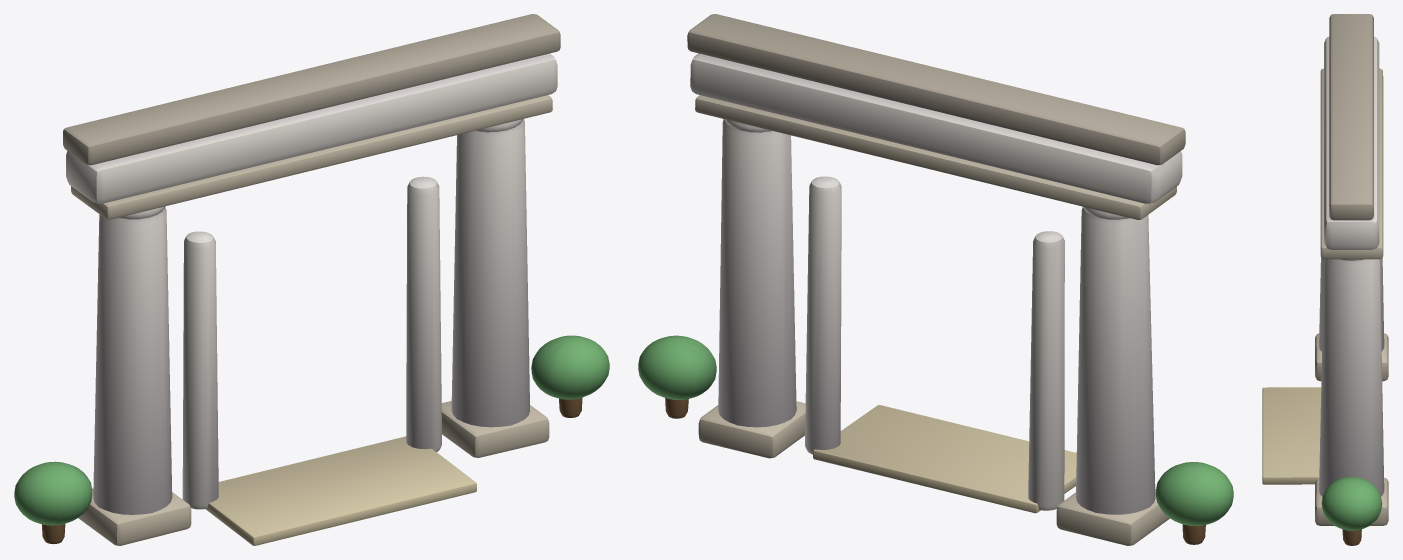
3 renders of one model, left to right at view 1: azimuth 30°, elevation 25°; view 2: azimuth 150°, elevation 25°; view 3: azimuth 270°, elevation 25°, orthographic. The views are drawn at different scales.
Visible parts, largest first — view 1: gate_333271d1; view 2: gate_333271d1; view 3: gate_333271d1.
Boxes of the visible parts, x1,y1,x2,y2 form: gate_333271d1: [14, 14, 609, 545]; gate_333271d1: [638, 14, 1233, 545]; gate_333271d1: [1262, 14, 1388, 545].
Bounding box in the file's own units: 6.28 × 4.11 × 1.42.
